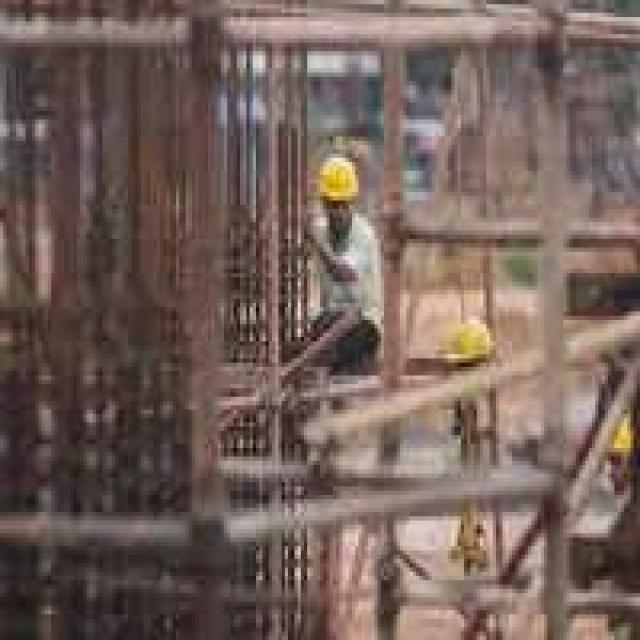Reflective-Jacket: (291, 226, 387, 367)
Safety-Helmet: (307, 145, 371, 218)
